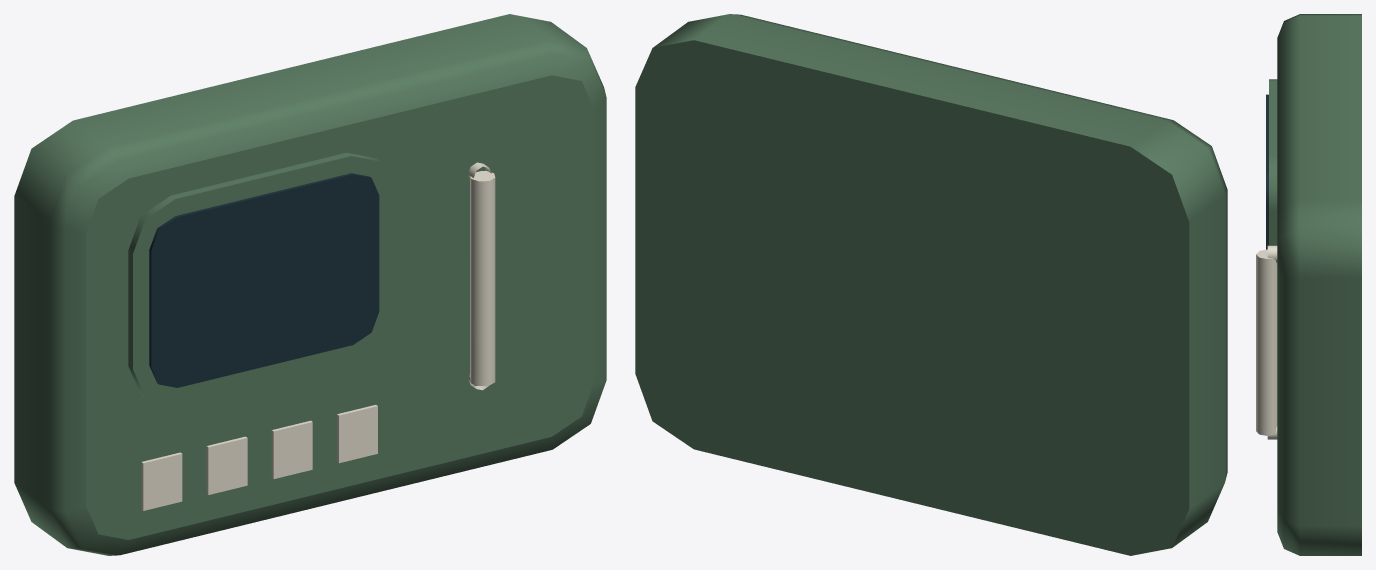
Rendered from t60_scrubber.obj.
3 views of the same model, side by side, from view 1: azimuth 30°, elevation 25°; view 2: azimuth 150°, elevation 25°; view 3: azimuth 270°, elevation 25° (orthographic). The views are drawn at different scales.
Parts seen in each view (by area): view 1: t60_scrubber; view 2: t60_scrubber; view 3: t60_scrubber.
Boxes of the visible parts, x1,y1,x2,y2 form: t60_scrubber: (14,14,606,555); t60_scrubber: (635,14,1227,555); t60_scrubber: (1256,14,1361,555).
Bounding box in the file's own units: 1.7 × 1.2 × 0.325.
